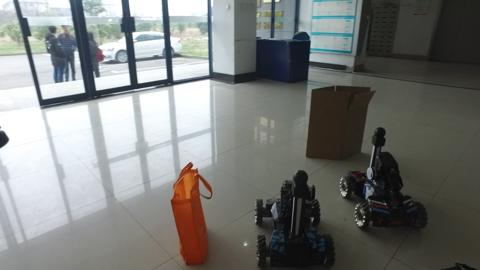bag: (170, 159, 214, 259)
box: (305, 78, 366, 161)
chariot: (342, 129, 432, 232), (253, 167, 338, 270)
